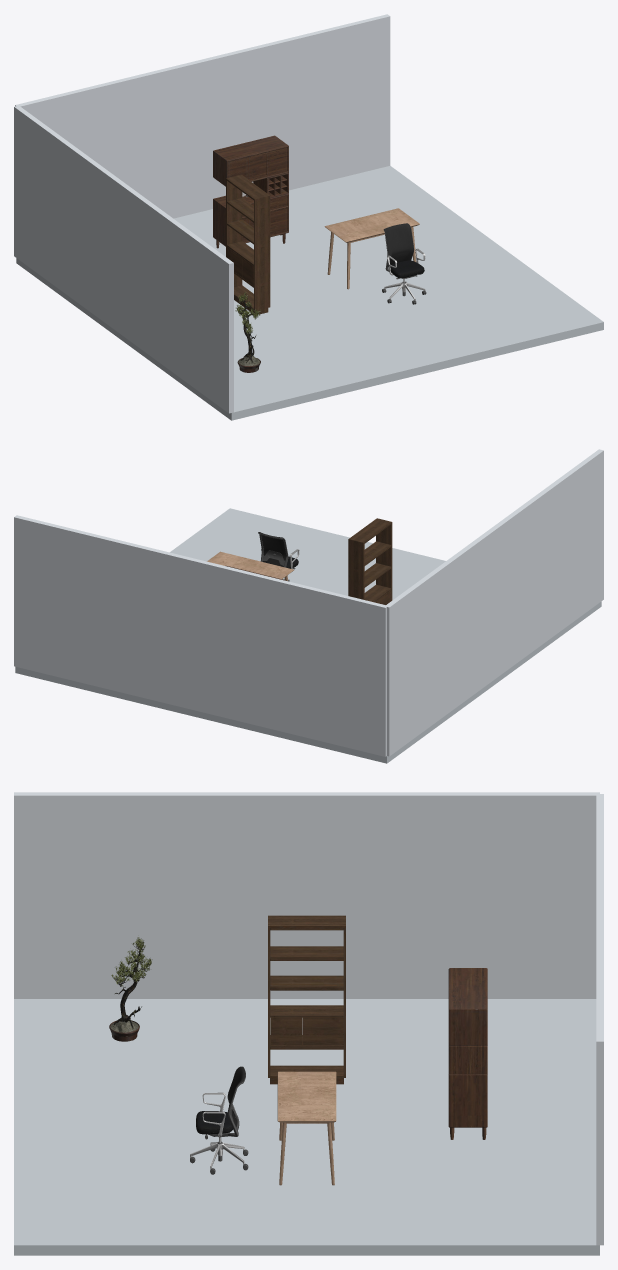
The model's file is stage2.glb.
The picture shows the model from 3 angles, top to bottom: view 1: azimuth 30°, elevation 25°; view 2: azimuth 150°, elevation 25°; view 3: azimuth 270°, elevation 25°; orthographic projection. The views are drawn at different scales.
Parts seen in each view (by area): view 1: Floor, wall_back, wall_left, raw_model.002, raw_model.003, raw_model, raw_model.001, raw_model.004; view 2: wall_back, wall_left, Floor, raw_model.002, raw_model, raw_model.001; view 3: Floor, wall_left, raw_model.002, raw_model.003, raw_model, wall_back, raw_model.001, raw_model.004.
Boxes of the visible parts, x1,y1,x2,y2 form: Floor: [16, 165, 603, 420]; wall_back: [15, 14, 390, 218]; wall_left: [14, 105, 233, 413]; raw_model.002: [226, 174, 270, 314]; raw_model.003: [213, 135, 288, 248]; raw_model: [324, 208, 419, 289]; raw_model.001: [382, 223, 426, 304]; raw_model.004: [235, 292, 260, 372]; wall_back: [14, 515, 387, 756]; wall_left: [386, 449, 603, 756]; Floor: [15, 508, 601, 763]; raw_model.002: [348, 518, 392, 604]; raw_model: [207, 551, 293, 581]; raw_model.001: [258, 532, 299, 581]; Floor: [14, 999, 599, 1255]; wall_left: [14, 792, 599, 998]; raw_model.002: [268, 915, 345, 1084]; raw_model.003: [448, 968, 487, 1139]; raw_model: [277, 1071, 336, 1185]; wall_back: [596, 794, 603, 1245]; raw_model.001: [190, 1066, 248, 1174]; raw_model.004: [109, 937, 152, 1041].
Bounding box in the file's own units: 6.04 × 2.42 × 6.04.
7 materials, 5 textured.
